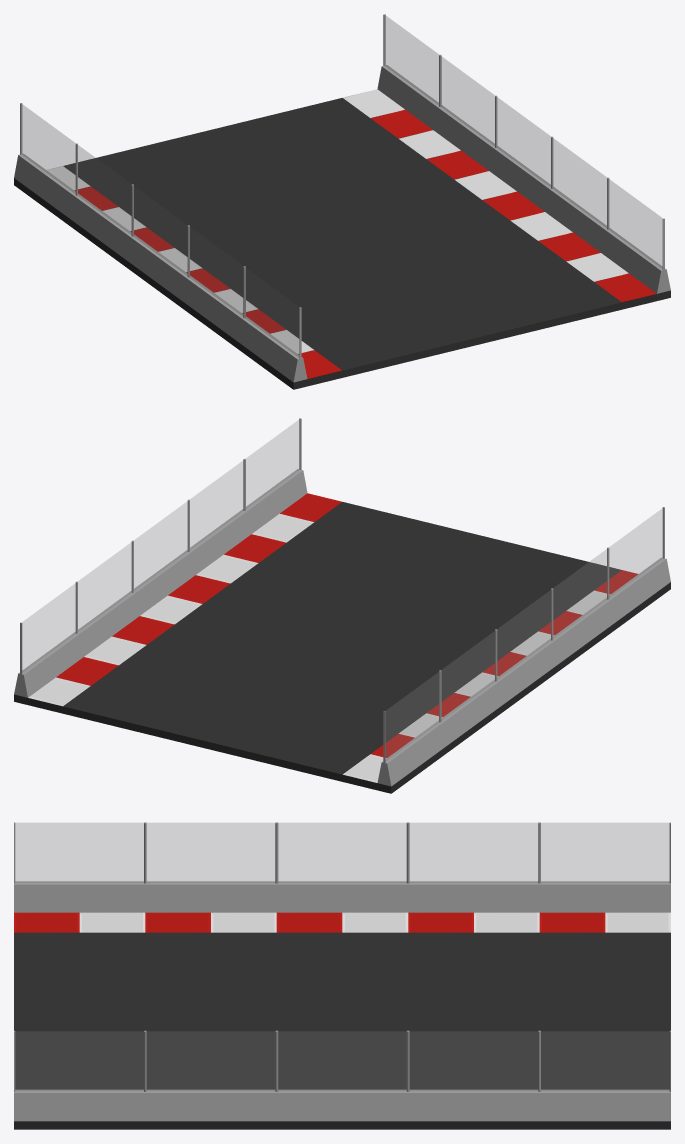
The model's file is track_straight_borders_low.glb.
3 views of the same model, one above another, from view 1: azimuth 30°, elevation 25°; view 2: azimuth 150°, elevation 25°; view 3: azimuth 270°, elevation 25° (orthographic). The views are drawn at different scales.
Parts seen in each view (by area): view 1: Straight.002; view 2: Straight.002; view 3: Straight.002.
Boxes of the visible parts, <box> form: Straight.002: <box>14,14,670,389</box>; Straight.002: <box>14,418,670,793</box>; Straight.002: <box>14,822,670,1129</box>.
Size of the model in its own units: 10.8 by 2.2 by 13.86.
